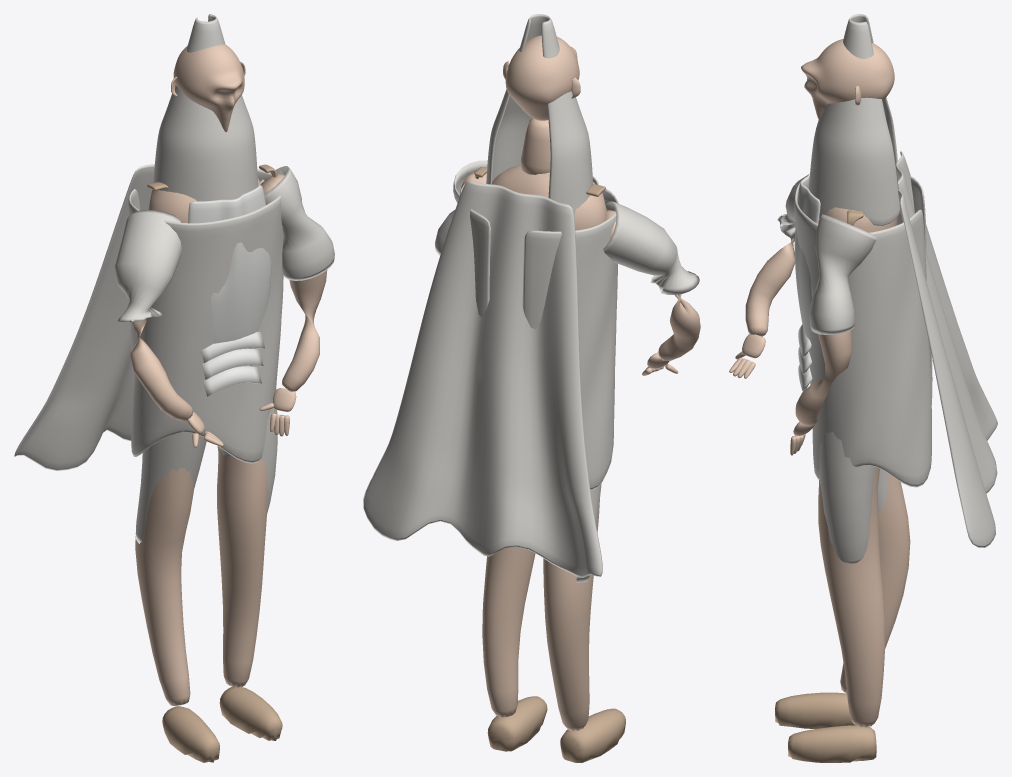
Rendered from basilica_skirmisher.glb.
3 views of the same model, side by side, from view 1: azimuth 30°, elevation 25°; view 2: azimuth 150°, elevation 25°; view 3: azimuth 270°, elevation 25° (orthographic). The views are drawn at different scales.
Visible parts, largest first — view 1: Robe, Cape, Hood, LegL, LegR, Plate, SleeveR, SleeveL, Head, BreechR, ArmL, ArmR (+7 smaller); view 2: Cape, Robe, Hood, LegR, LegL, SleeveR, Head, BootR, BootL, Body, ArmR, Neck (+1 smaller); view 3: Robe, Cape, Hood, LegL, BreechL, SleeveL, Head, LegR, BootL, BootR, ArmR, ArmL (+3 smaller).
Part boxes in pixels (x1,y1,x2,y2): Robe: [128, 169, 283, 463]; Cape: [14, 164, 154, 470]; Hood: [153, 14, 258, 201]; LegL: [217, 446, 268, 687]; LegR: [135, 468, 194, 705]; Plate: [188, 185, 271, 343]; SleeveR: [114, 210, 181, 321]; SleeveL: [259, 166, 334, 280]; Head: [173, 44, 244, 132]; BreechR: [135, 431, 206, 543]; ArmL: [260, 174, 327, 391]; ArmR: [130, 319, 193, 421]; Cape: [363, 180, 602, 577]; Robe: [459, 184, 618, 490]; Hood: [486, 14, 593, 216]; LegR: [543, 500, 599, 731]; LegL: [482, 547, 535, 717]; SleeveR: [603, 200, 699, 294]; Head: [505, 35, 579, 120]; BootR: [560, 708, 625, 762]; BootL: [487, 696, 547, 751]; Body: [492, 165, 606, 230]; ArmR: [604, 210, 700, 360]; Neck: [521, 118, 550, 174]; Robe: [794, 176, 932, 487]; Cape: [896, 151, 997, 547]; Hood: [808, 14, 900, 226]; LegL: [818, 467, 885, 727]; BreechL: [819, 431, 875, 564]; SleeveL: [809, 214, 876, 334]; Head: [801, 39, 894, 119]; LegR: [840, 473, 910, 693]; BootL: [788, 725, 876, 762]; BootR: [775, 692, 855, 728]; ArmR: [745, 238, 794, 336]; ArmL: [795, 330, 852, 426].
Size of the model in its own units: 0.6776 by 1.88 by 0.6365.
